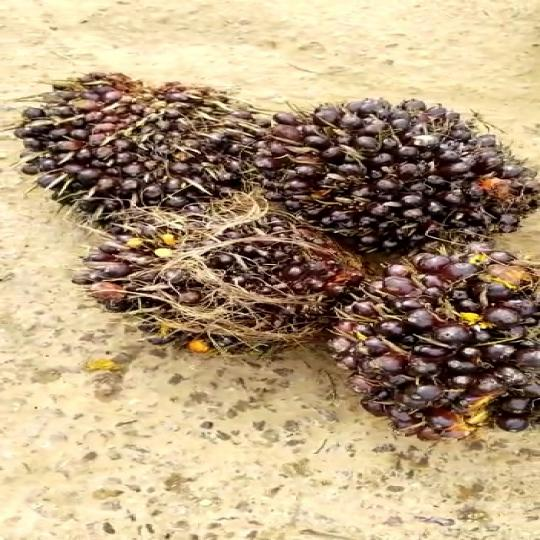mentah: (74, 198, 346, 391), (276, 84, 540, 254), (0, 66, 283, 223), (329, 229, 540, 437)
